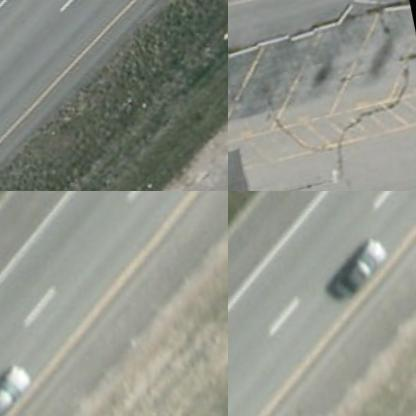car: (322, 233, 400, 310), (0, 355, 44, 415)
